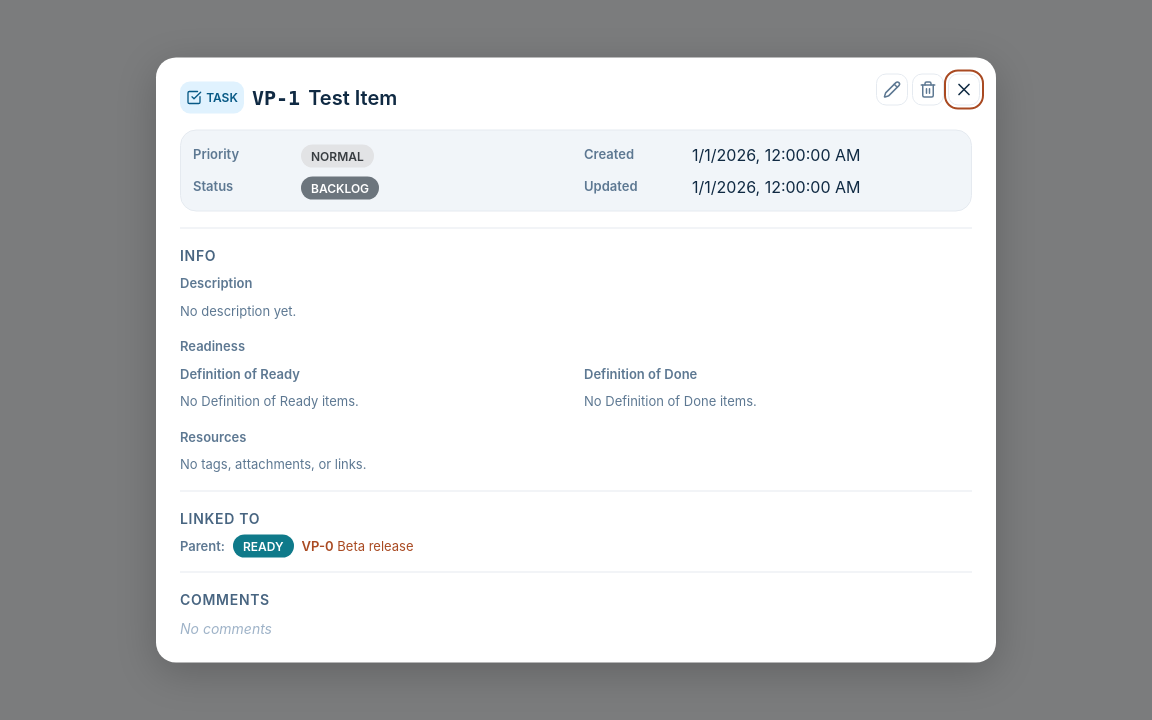
Test: ItemModal › opens a linked item in the same modal when a relationship link is clicked
The image size is (1152, 720).
Click the link "VP-0 Beta release" at (358, 545), box [302,537,414,553]
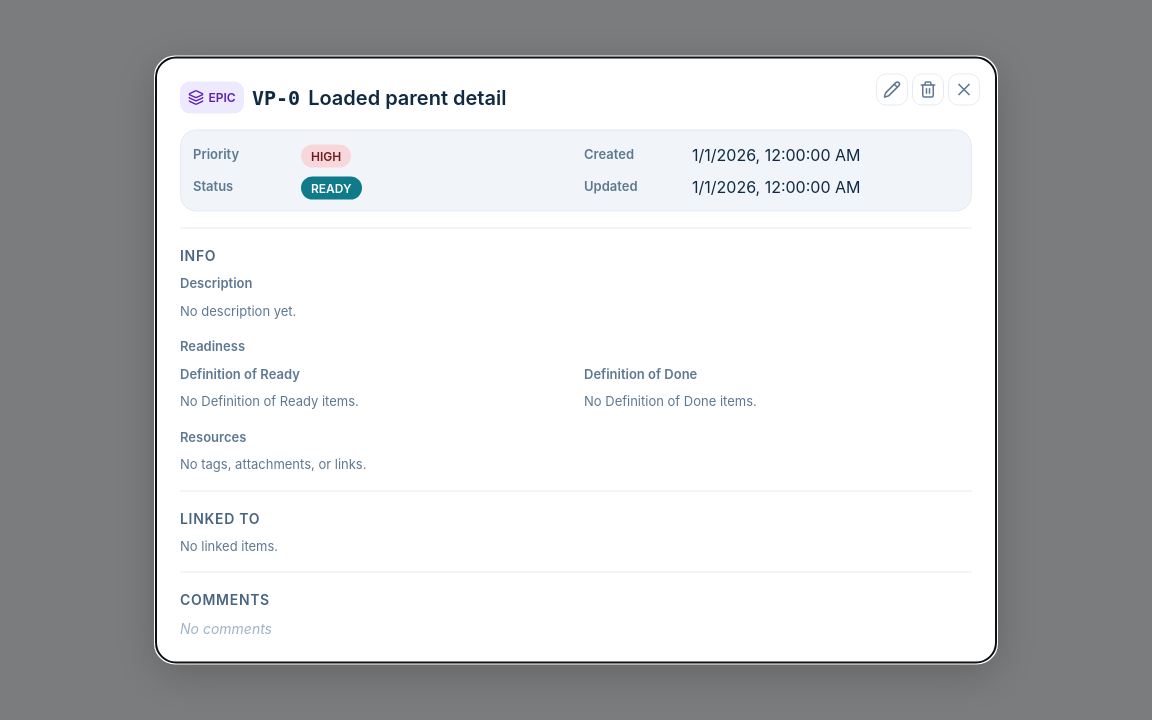
expect the heading "EPIC VP-0 Loaded parent detail" is shown: met, box [180,82,506,114]
expect the link "Beta release" is gone: met
